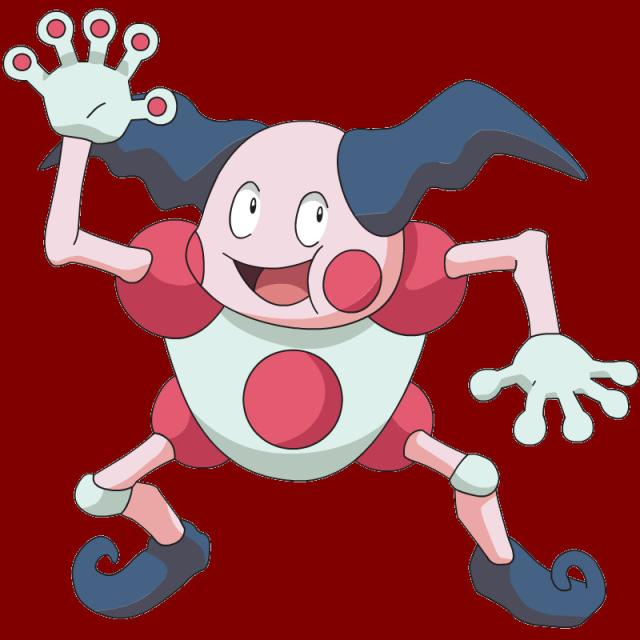MrMime: (71, 82, 576, 606)
